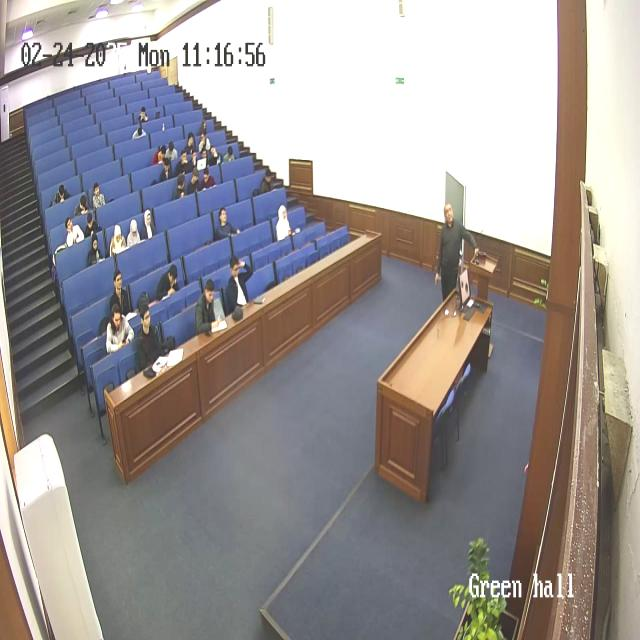person: (434, 202, 478, 301), (132, 304, 164, 372), (224, 254, 254, 318), (194, 278, 224, 337), (104, 300, 134, 354), (108, 271, 134, 321), (154, 264, 179, 303), (215, 206, 239, 240), (276, 204, 295, 241), (110, 223, 128, 257), (64, 217, 84, 247), (86, 236, 104, 268), (142, 209, 158, 240), (262, 167, 280, 192), (126, 219, 142, 247), (200, 164, 217, 190), (83, 211, 99, 238), (188, 167, 204, 194), (92, 181, 106, 209), (174, 174, 190, 198), (176, 150, 192, 174), (199, 134, 213, 161), (75, 193, 91, 216), (53, 184, 70, 205), (160, 159, 176, 181), (133, 119, 148, 139), (152, 145, 166, 166), (186, 130, 198, 154), (222, 144, 236, 164), (200, 113, 209, 140), (138, 106, 150, 125)
